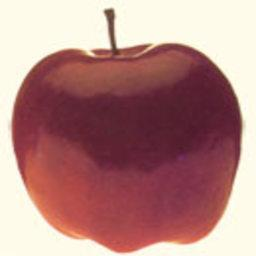apple: (11, 32, 244, 253)
